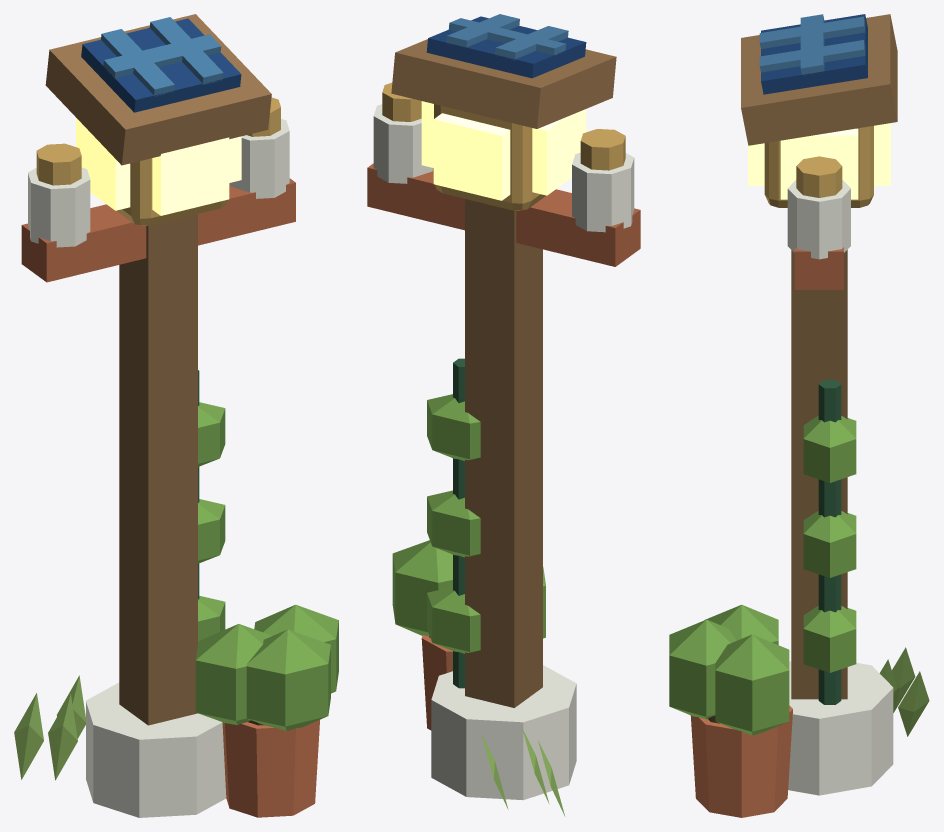
The model's file is pylon.glb.
3 views of the same model, side by side, from view 1: azimuth 30°, elevation 25°; view 2: azimuth 150°, elevation 25°; view 3: azimuth 270°, elevation 25° (orthographic).
Visible parts, largest first — view 1: Pylon_timber_post, Pylon_ceramic_socket, Pylon_solar_cap_timber_frame, Pylon_copper_crossarm, decor_Terracotta_planter, decor_Living_leaves.002, decor_Living_leaves, Pylon_solar_cap_blue_glass, Pylon_lantern_window, Pylon_ceramic_insulator, Pylon_ceramic_insulator.001, Pylon_lantern_window.002 (+12 smaller); view 2: Pylon_timber_post, Pylon_ceramic_socket, Pylon_solar_cap_timber_frame, Pylon_copper_crossarm, Pylon_lantern_window.001, decor_Living_leaves.001, Pylon_ceramic_insulator, Pylon_solar_cap_blue_glass, Pylon_lantern_frame, Pylon_lantern_window.002, Pylon_ceramic_insulator.001, decor_Vine_leaf.001 (+10 smaller); view 3: Pylon_timber_post, Pylon_ceramic_socket, Pylon_solar_cap_timber_frame, decor_Terracotta_planter, decor_Living_leaves.001, decor_Living_leaves.002, Pylon_ceramic_insulator.001, decor_Vine_stem, Pylon_solar_cap_blue_glass, decor_Vine_leaf.002, decor_Vine_leaf.001, decor_Vine_leaf (+12 smaller).
Boxes of the visible parts, x1,y1,x2,y2 form: Pylon_timber_post: (119, 214, 197, 725); Pylon_ceramic_socket: (86, 682, 226, 817); Pylon_solar_cap_timber_frame: (45, 14, 271, 165); Pylon_copper_crossarm: (21, 178, 295, 282); decor_Terracotta_planter: (222, 720, 319, 817); decor_Living_leaves.002: (246, 629, 330, 730); decor_Living_leaves: (195, 624, 271, 725); Pylon_solar_cap_blue_glass: (81, 18, 241, 112); Pylon_lantern_window: (152, 137, 229, 215); Pylon_ceramic_insulator: (28, 167, 90, 247); Pylon_ceramic_insulator.001: (229, 119, 289, 198); Pylon_lantern_window.002: (76, 118, 130, 210); Pylon_timber_post: (465, 199, 542, 707); Pylon_ceramic_socket: (431, 665, 576, 800); Pylon_solar_cap_timber_frame: (391, 39, 616, 128); Pylon_copper_crossarm: (367, 163, 640, 266); Pylon_lantern_window.001: (433, 113, 510, 200); decor_Living_leaves.001: (392, 540, 452, 636); Pylon_ceramic_insulator: (572, 152, 634, 232); Pylon_solar_cap_blue_glass: (426, 16, 586, 78); Pylon_lantern_frame: (434, 104, 545, 210); Pylon_lantern_window.002: (532, 109, 586, 195); Pylon_ceramic_insulator.001: (373, 104, 433, 183); decor_Vine_leaf.001: (427, 490, 480, 557); Pylon_timber_post: (791, 250, 847, 699); Pylon_ceramic_socket: (788, 661, 893, 795); Pylon_solar_cap_timber_frame: (741, 14, 897, 145); decor_Terracotta_planter: (690, 705, 792, 817); decor_Living_leaves.001: (715, 634, 789, 735); decor_Living_leaves.002: (669, 619, 736, 719); Pylon_ceramic_insulator.001: (787, 180, 850, 259); decor_Vine_stem: (818, 380, 841, 704); Pylon_solar_cap_blue_glass: (761, 14, 867, 94); decor_Vine_leaf.002: (803, 416, 856, 482); decor_Vine_leaf.001: (803, 511, 856, 577); decor_Vine_leaf: (803, 606, 856, 672).
Size of the model in its own units: 0.8786 by 2.29 by 0.7372.
